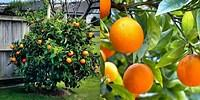apple: (87, 31, 87, 32)
orange: (105, 19, 137, 52), (122, 66, 156, 94), (176, 59, 200, 89), (65, 57, 75, 64), (83, 50, 90, 57)
